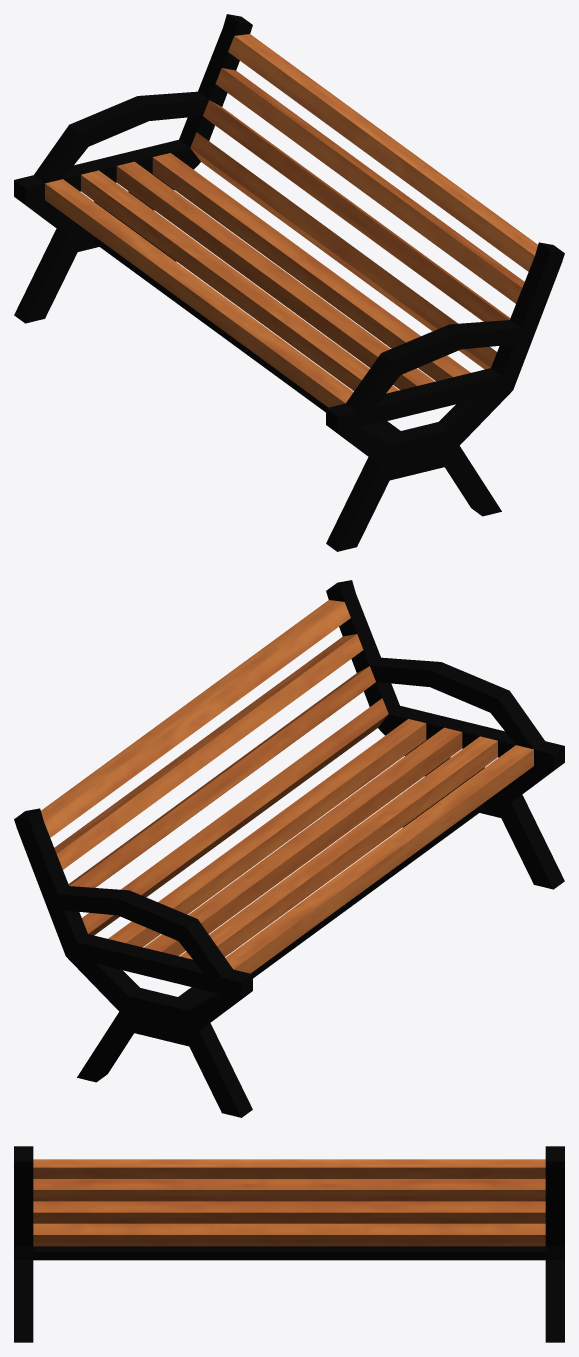
File: bench.fbx
The picture shows the model from 3 angles, top to bottom: view 1: azimuth 30°, elevation 25°; view 2: azimuth 150°, elevation 25°; view 3: azimuth 270°, elevation 25°; orthographic projection. The views are drawn at different scales.
Visible parts, largest first — view 1: Plane.001; view 2: Plane.001; view 3: Plane.001.
Boxes of the visible parts, bbox=[...] form: Plane.001: bbox=[14, 14, 564, 551]; Plane.001: bbox=[14, 580, 564, 1117]; Plane.001: bbox=[14, 1146, 564, 1342].
Size of the model in its own units: 96.21 by 101 by 237.
